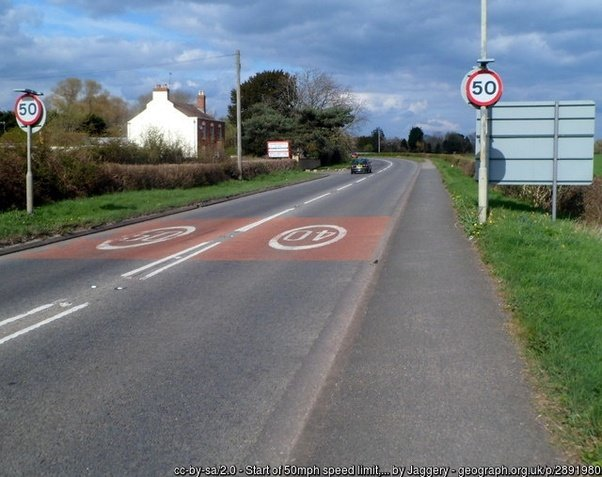Speed_limit_50km: (466, 71, 502, 107), (16, 96, 42, 124)
